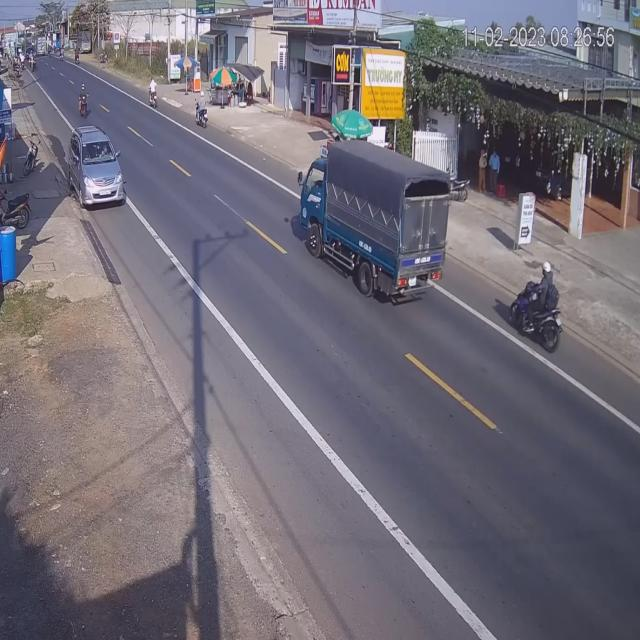car: (69, 126, 125, 210)
motorbike: (512, 266, 563, 356), (194, 95, 208, 129), (147, 78, 158, 111), (79, 85, 89, 119)
truck: (301, 134, 452, 296)
